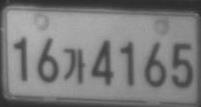1: (117, 41, 142, 86), (10, 36, 34, 81)
4: (90, 39, 114, 86)
5: (170, 42, 194, 87)
6: (37, 36, 59, 82), (144, 41, 166, 87)
가: (62, 47, 87, 84)
